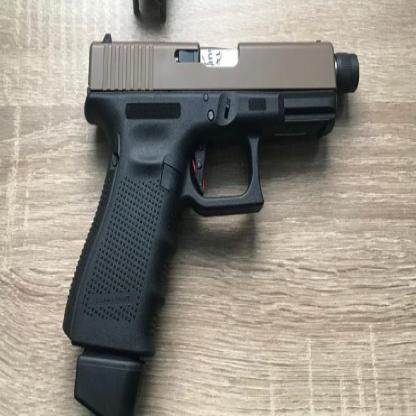handgun: (55, 26, 365, 416)
